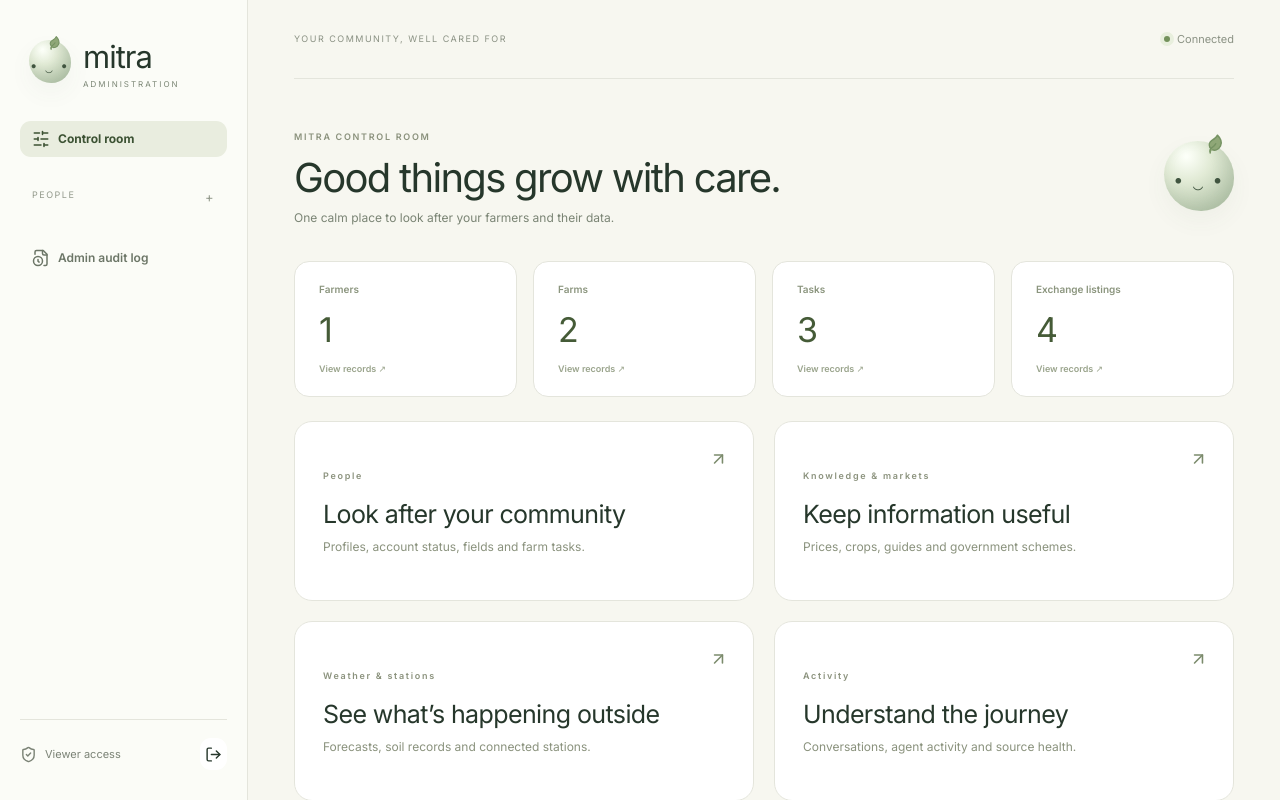
Test: administration workspace › keeps a viewer read only
The width and height of the screenshot is (1280, 800).
Check: the heading "Good things grow with care." is shown, box [294,154,780,201]
Click the heading "People" at (54, 194), box [32,188,75,200]
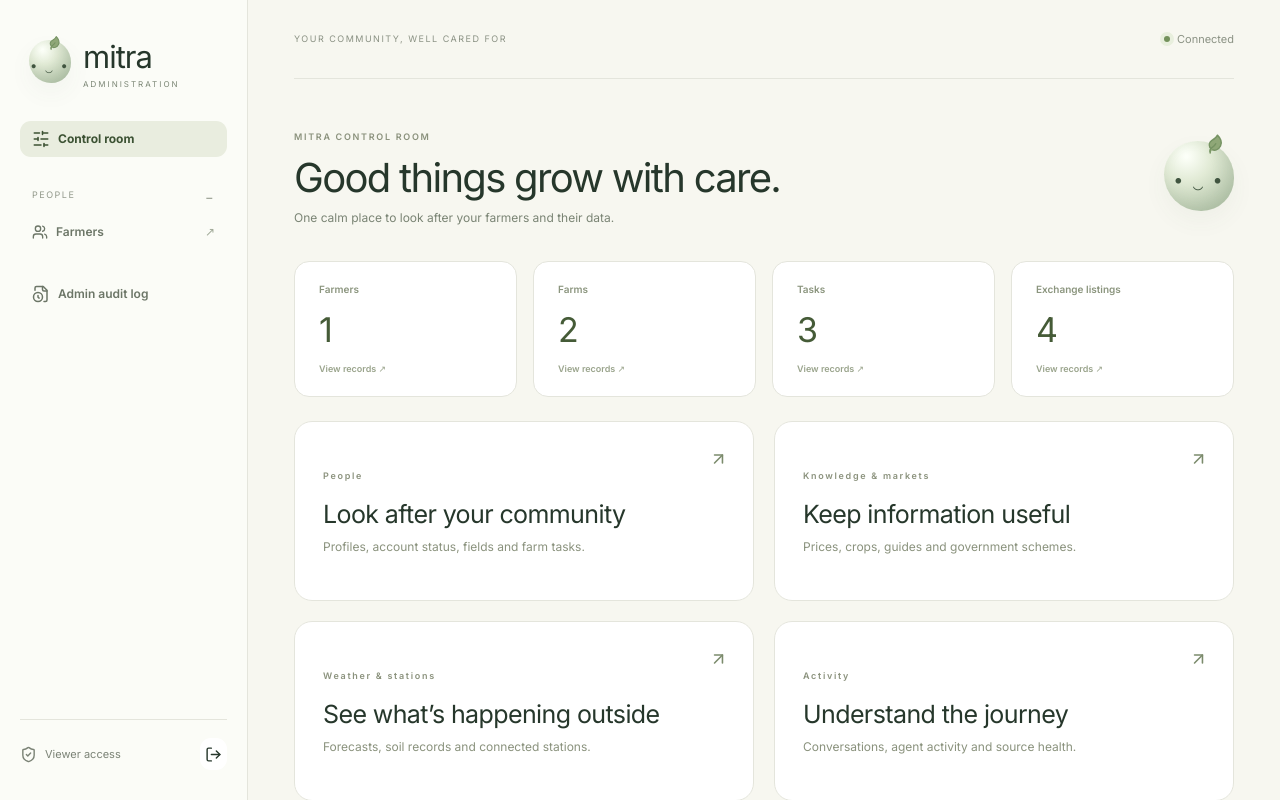
Click the button "Farmers ↗" at (124, 232), box [20,214,227,250]
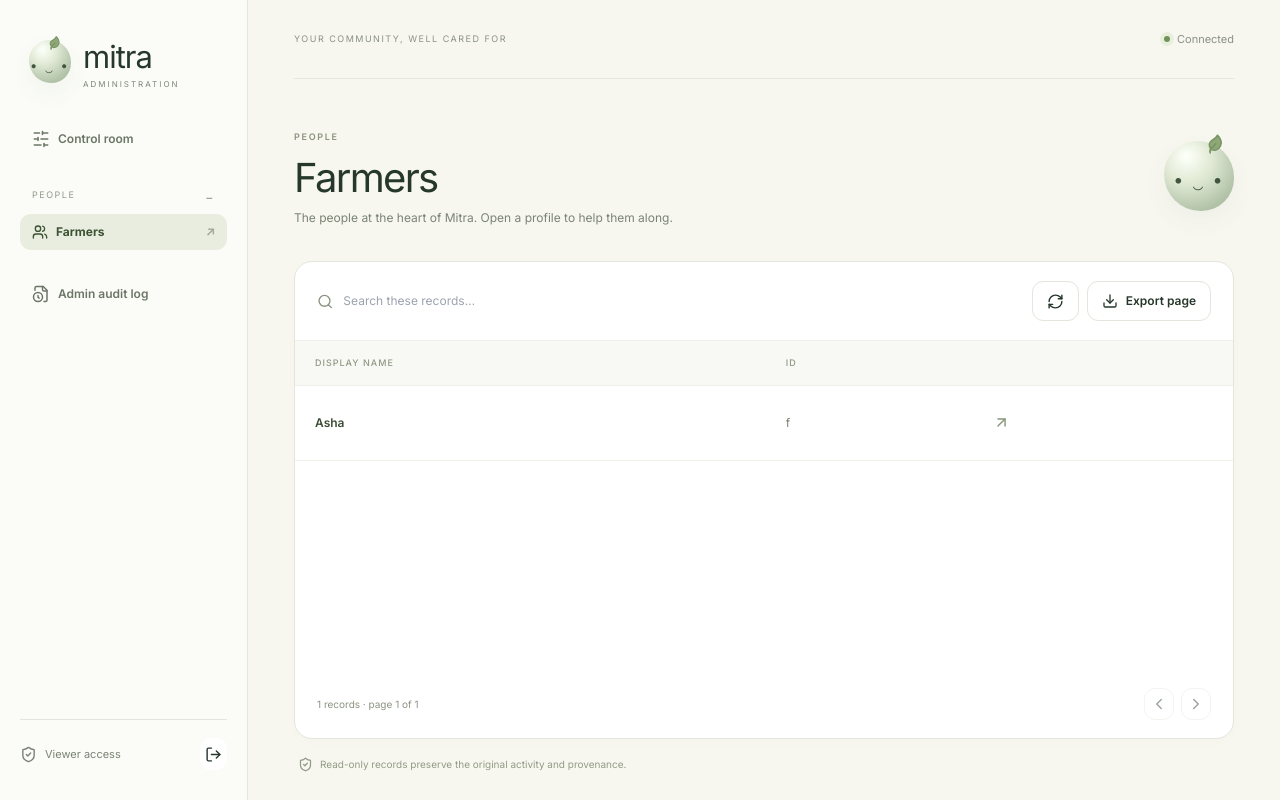
Check: the text "Asha" is shown, box [315,415,344,430]
Click the button named "Open record 1" at (1001, 423), box [988,408,1015,438]
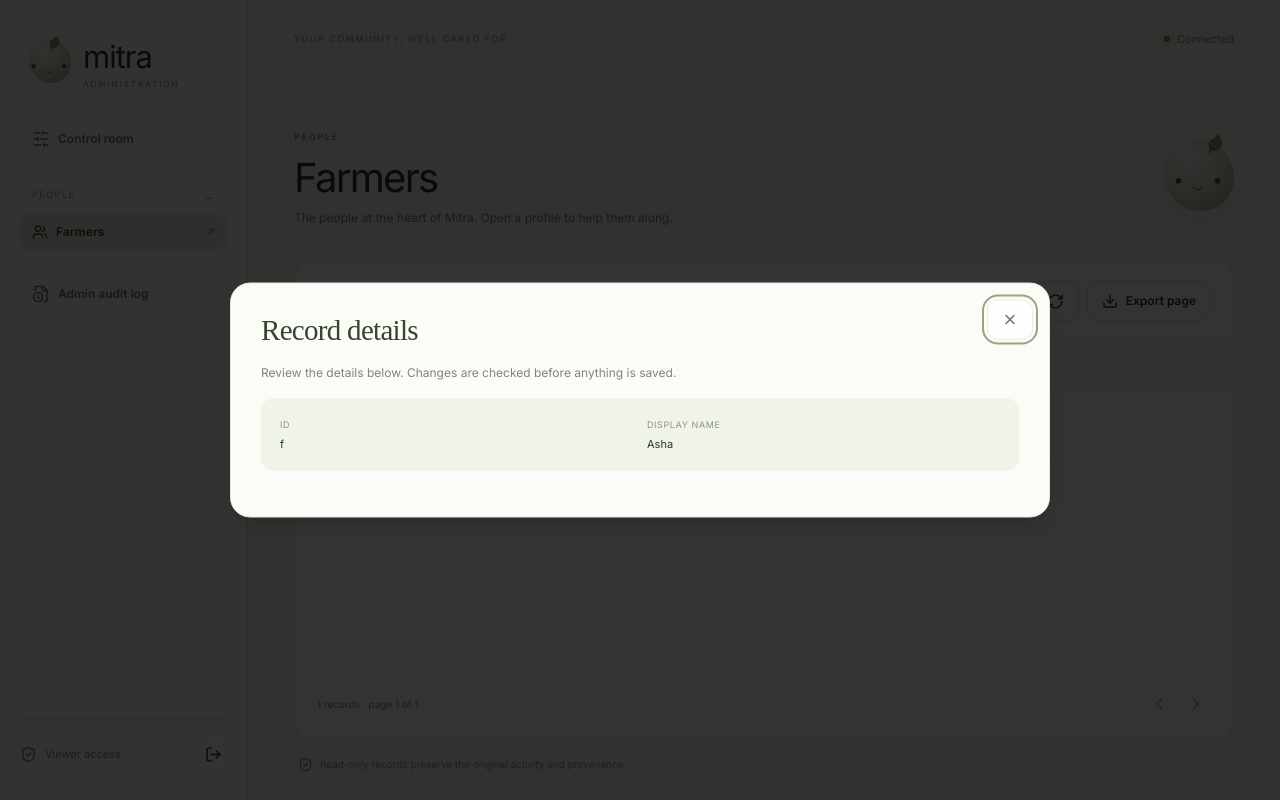
Check: the dialog is shown, box [230,282,1050,518]
